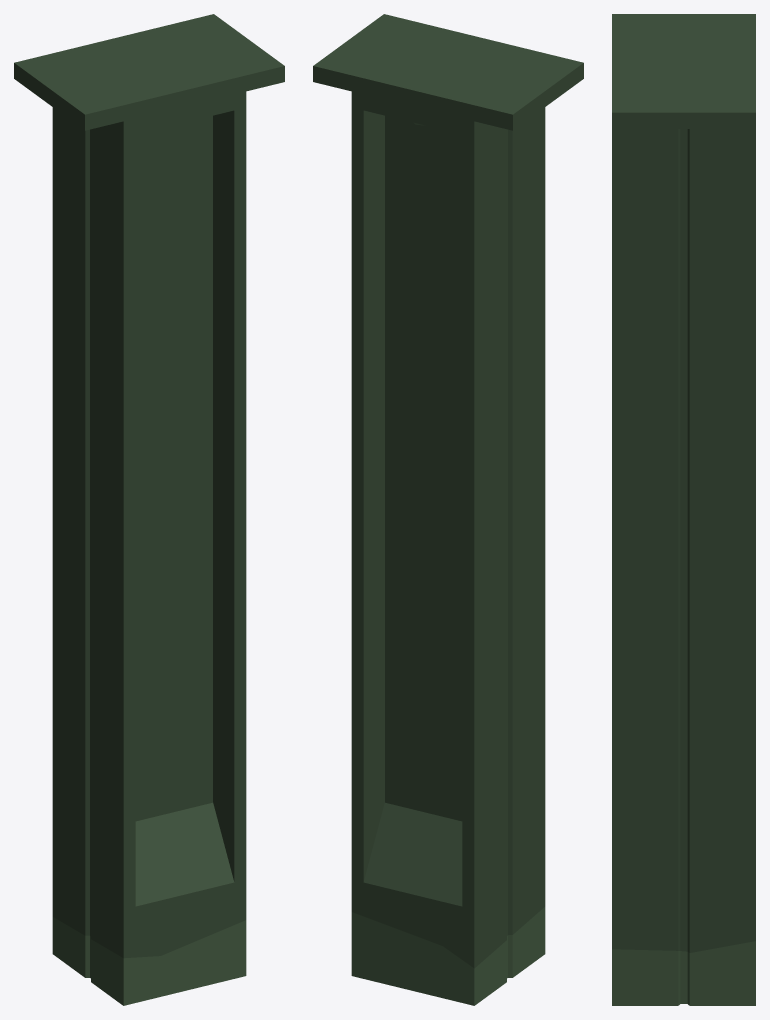
File: SM_Train_Subway_Station_Pillar_01.fbx
The picture shows the model from 3 angles, left to right: view 1: azimuth 30°, elevation 25°; view 2: azimuth 150°, elevation 25°; view 3: azimuth 270°, elevation 25°; orthographic projection.
Visible parts, largest first — view 1: SM_Train_Subway_Station_Pillar_01; view 2: SM_Train_Subway_Station_Pillar_01; view 3: SM_Train_Subway_Station_Pillar_01.
Part boxes in pixels (left/top/right/bottom): SM_Train_Subway_Station_Pillar_01: left=14, top=14, right=284, bottom=1005; SM_Train_Subway_Station_Pillar_01: left=313, top=14, right=583, bottom=1005; SM_Train_Subway_Station_Pillar_01: left=612, top=14, right=755, bottom=1005.
Size of the model in its own units: 65 by 280 by 40.
